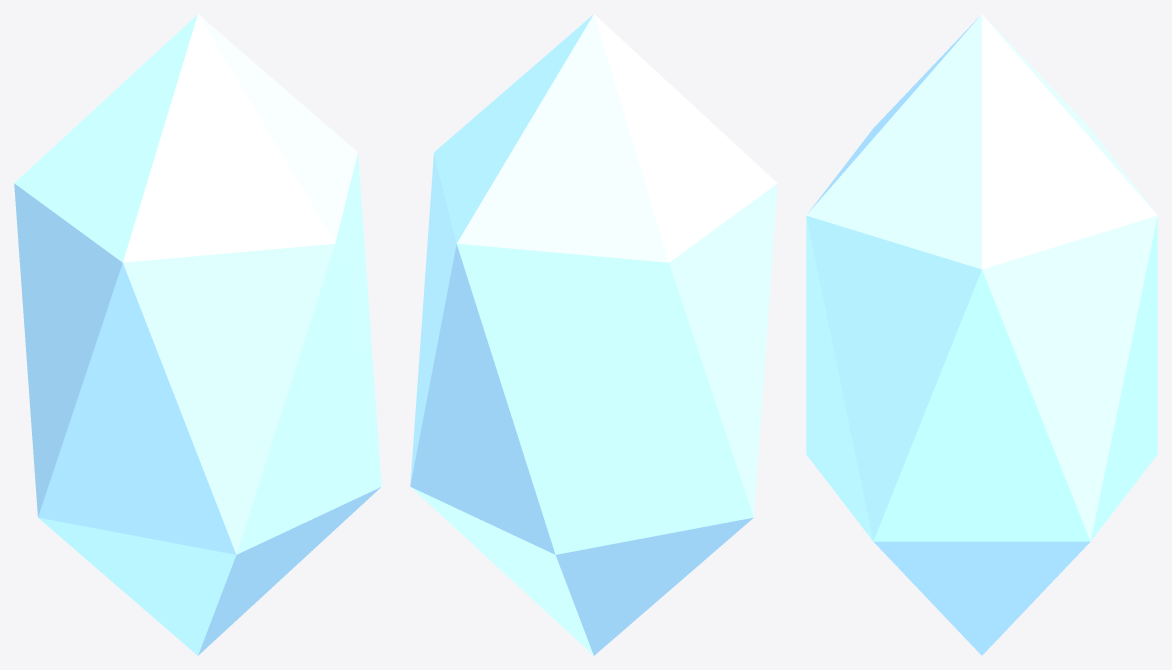
The model's file is nutrient_b.glb.
3 renders of one model, left to right at view 1: azimuth 30°, elevation 25°; view 2: azimuth 150°, elevation 25°; view 3: azimuth 270°, elevation 25°, orthographic.
Visible parts, largest first — view 1: nutrient_b; view 2: nutrient_b; view 3: nutrient_b.
Boxes of the visible parts, box(x1,y1,x2,y2) form: nutrient_b: box(14, 14, 381, 655); nutrient_b: box(410, 14, 777, 655); nutrient_b: box(806, 14, 1157, 655).
Bounding box in the file's own units: 0.5259 × 1.01 × 0.5002.
